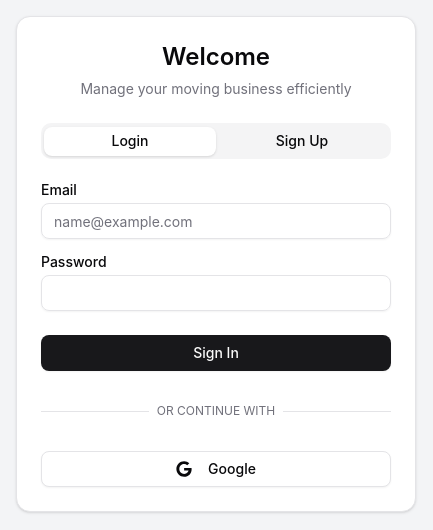
Scenario: LoginView › switches to signup form
Click the tab "Sign Up".
click(302, 141)  # box [216,126,388,156]
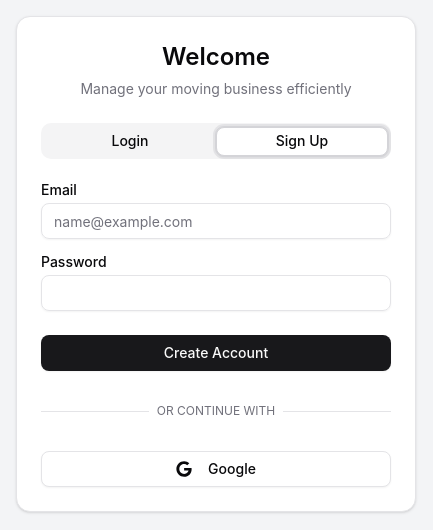
Now the button "Create Account" is shown, box [41,335,391,371]
